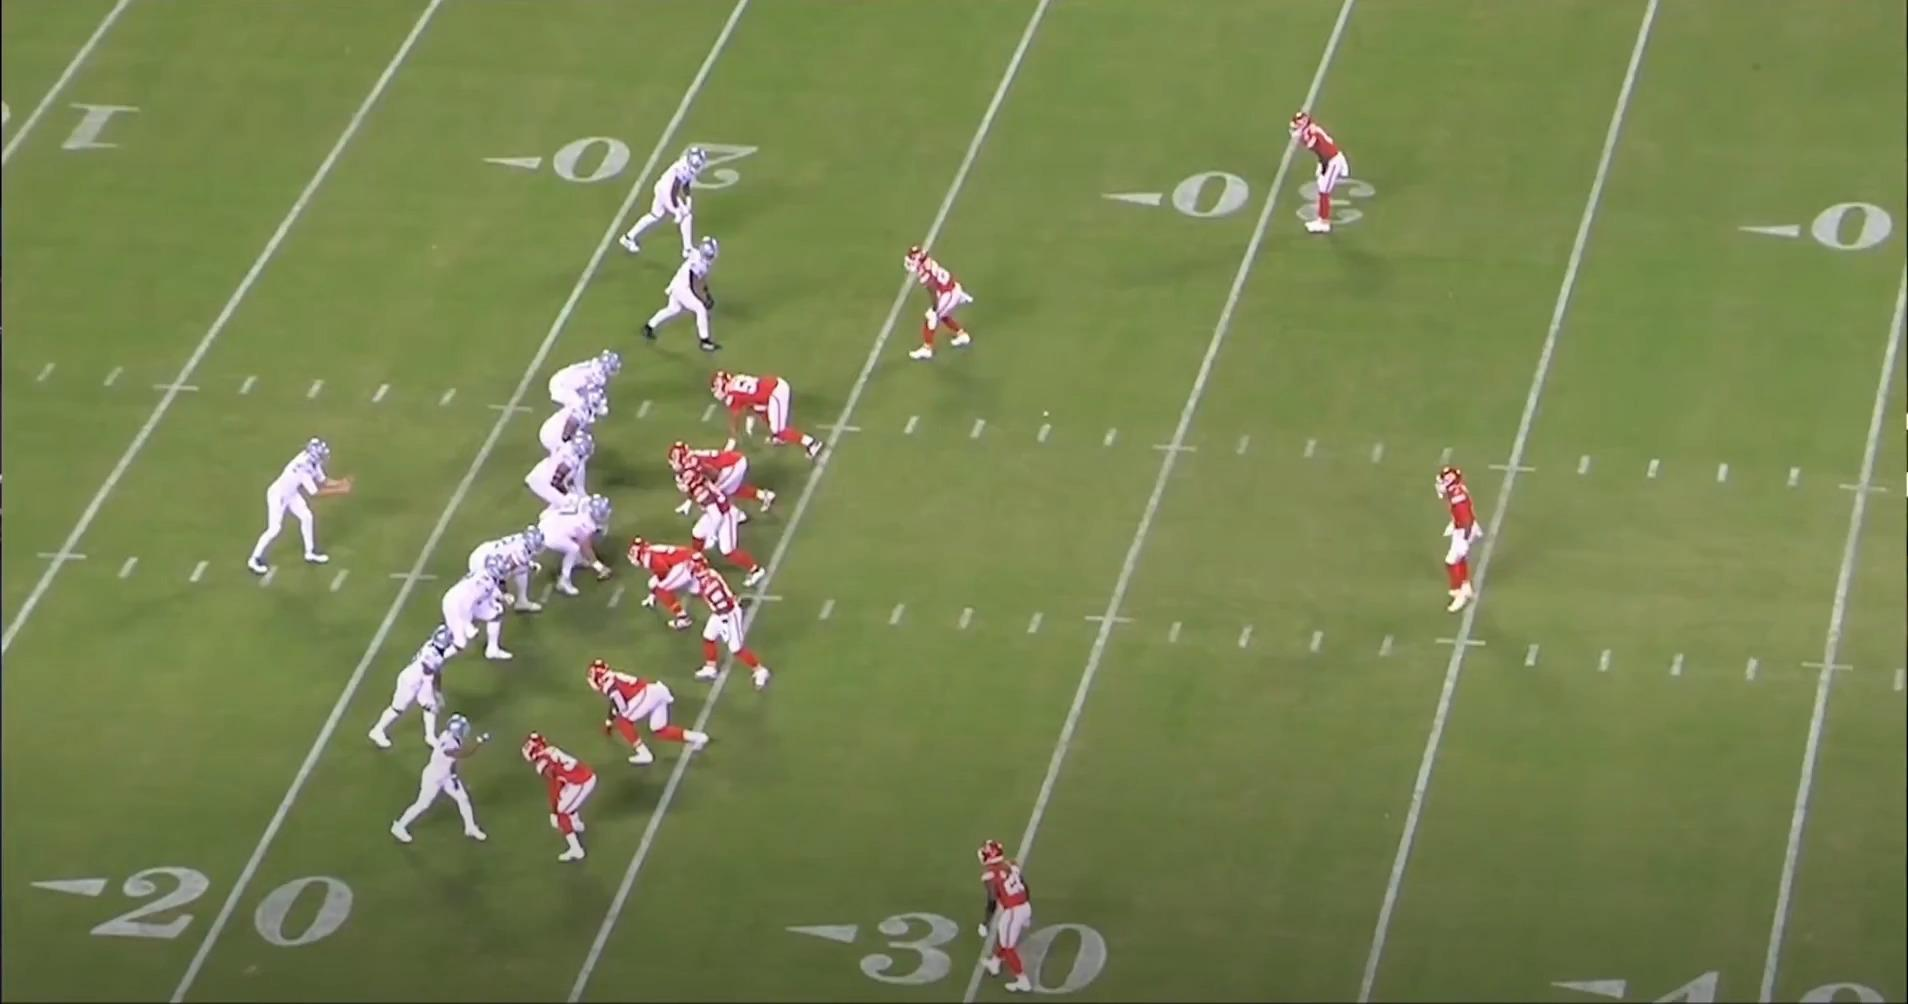defense: (591, 658, 717, 766), (690, 557, 780, 690), (683, 463, 776, 589), (516, 732, 596, 872), (707, 370, 827, 462), (974, 838, 1042, 995), (1427, 465, 1487, 622), (1291, 110, 1359, 243), (674, 439, 785, 518), (910, 243, 982, 365), (625, 539, 709, 633)
oline: (527, 496, 616, 605), (430, 557, 515, 668), (464, 528, 545, 634), (520, 438, 591, 522), (529, 394, 597, 455)
qb: (255, 428, 362, 579)
skill: (387, 709, 491, 850), (366, 621, 464, 756), (615, 139, 715, 261), (639, 235, 727, 354), (545, 351, 625, 417)
